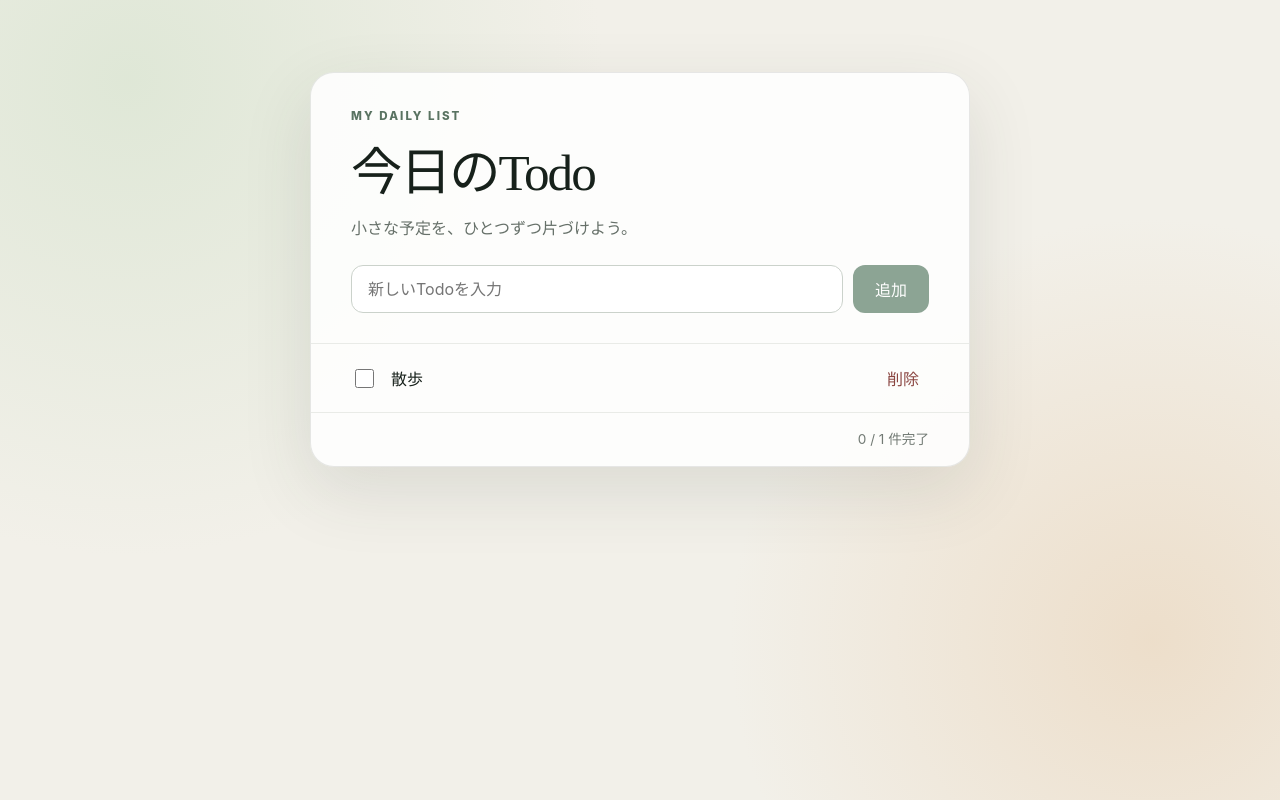
Test: App › Todoの完了状態を切り替える
Click the checkbox labelled "散歩": click(364, 378) [355,368,374,388]
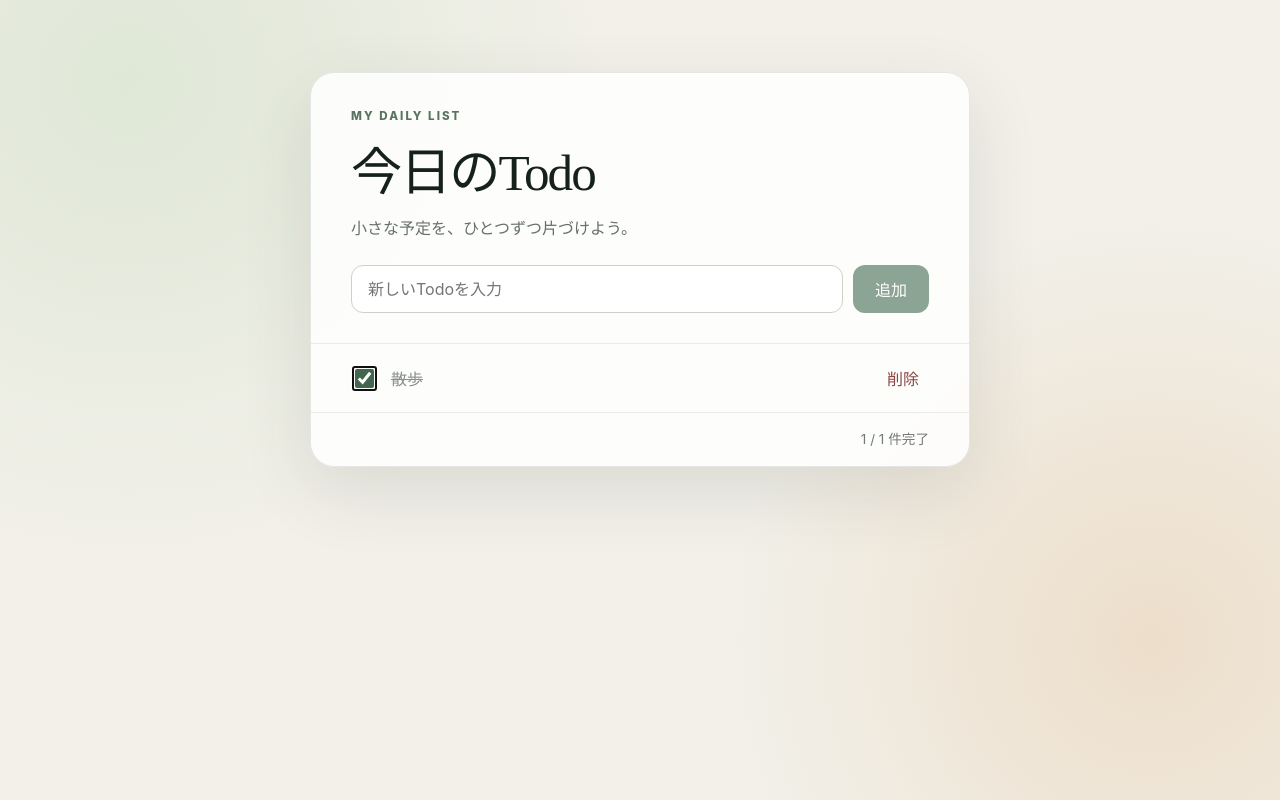
Expected: the checkbox labelled "散歩" is checked, [355,368,374,388]
Expected: the text "1 / 1 件完了" is shown, [861,431,929,447]
